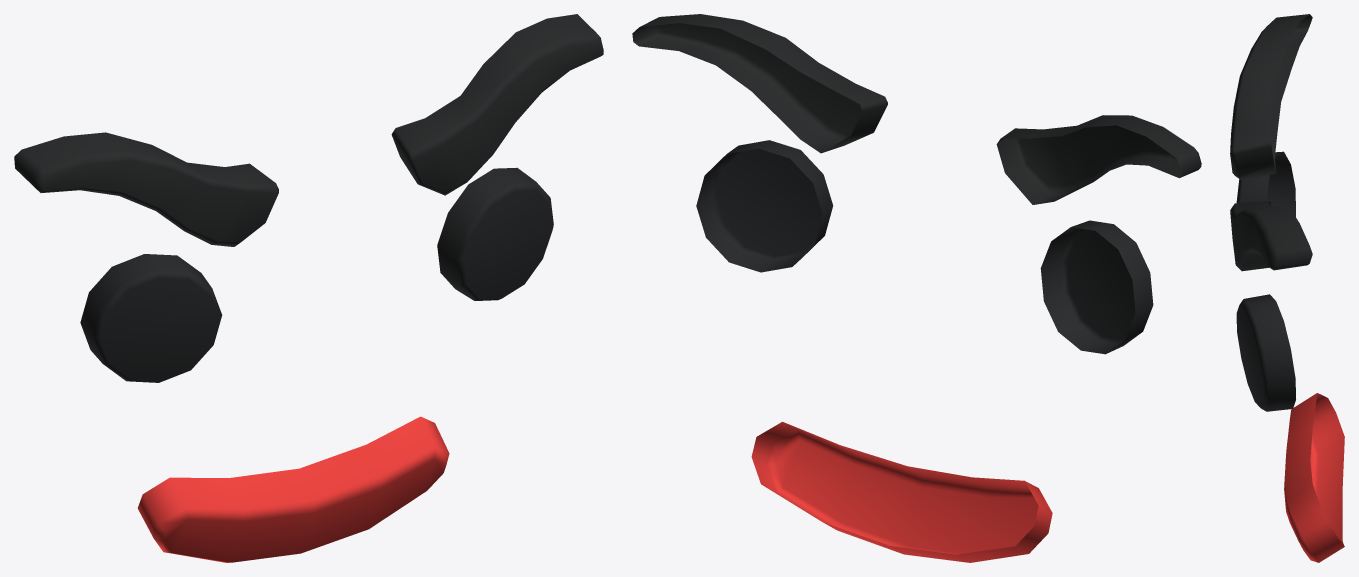
The model's file is Female_Emotion_Evil_01.glb.
The picture shows the model from 3 angles, left to right: view 1: azimuth 30°, elevation 25°; view 2: azimuth 150°, elevation 25°; view 3: azimuth 270°, elevation 25°; orthographic projection. The views are drawn at different scales.
Parts seen in each view (by area): view 1: Female_Emotion_Evil_01; view 2: Female_Emotion_Evil_01; view 3: Female_Emotion_Evil_01.
Part boxes in pixels (x1,y1,x2,y2): Female_Emotion_Evil_01: (14,14,603,562); Female_Emotion_Evil_01: (632,14,1201,562); Female_Emotion_Evil_01: (1230,14,1344,562).
Bounding box in the file's own units: 0.2105 × 0.1712 × 0.043.
1 material, 1 textured.
